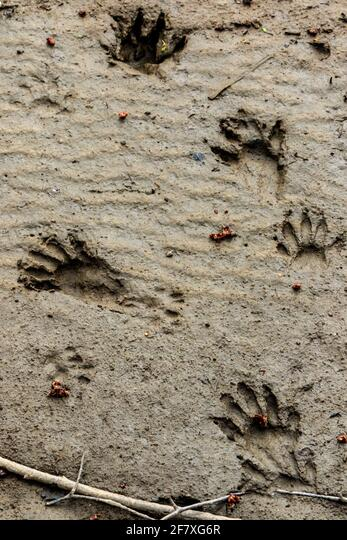raccoon: (193, 367, 320, 491), (13, 222, 137, 308), (208, 96, 299, 204), (101, 1, 189, 81), (261, 201, 339, 284)
